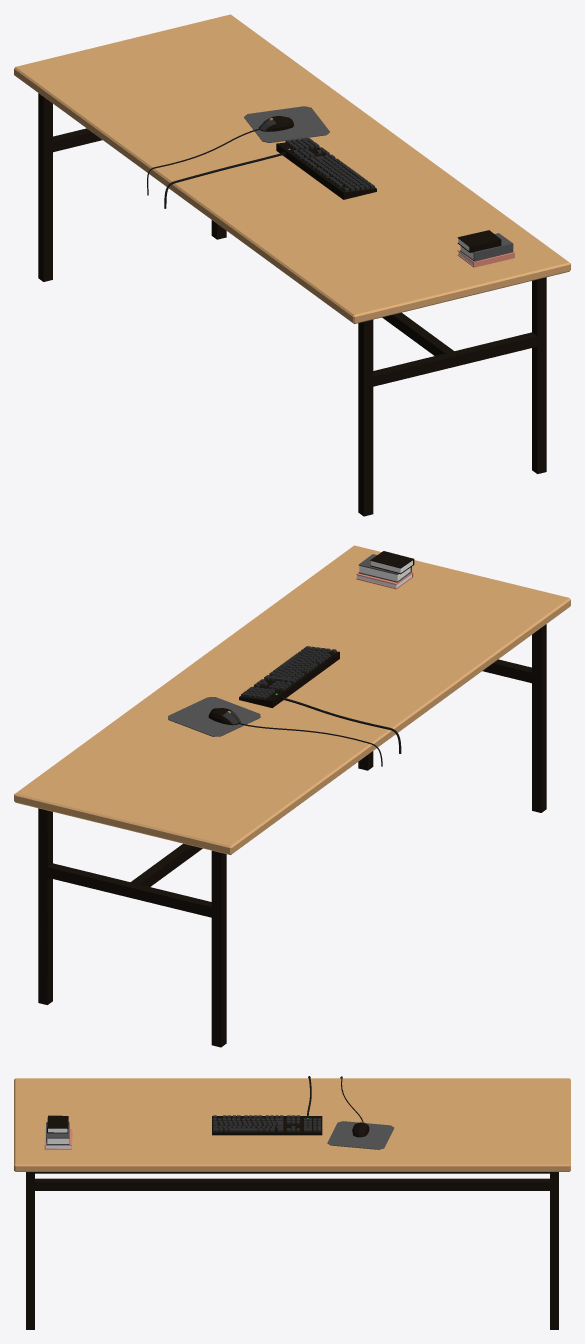
Rendered from desk.gltf.
3 renders of one model, top to bottom at view 1: azimuth 30°, elevation 25°; view 2: azimuth 150°, elevation 25°; view 3: azimuth 270°, elevation 25°, orthographic. The views are drawn at different scales.
Parts seen in each view (by area): view 1: Desk, PC_Keyboard, Mousepad, Books; view 2: Desk, PC_Keyboard, Mousepad, Books; view 3: Desk, PC_Keyboard, Mousepad, Books.
Part boxes in pixels (x1,y1,x2,y2): Desk: (14, 14, 570, 516); PC_Keyboard: (276, 138, 376, 199); Mousepad: (244, 106, 329, 142); Books: (457, 230, 514, 267); Desk: (14, 545, 570, 1047); PC_Keyboard: (239, 646, 339, 707); Mousepad: (168, 697, 260, 736); Books: (356, 551, 414, 589); Desk: (14, 1078, 570, 1329); PC_Keyboard: (212, 1115, 322, 1135); Mousepad: (327, 1121, 394, 1149); Books: (44, 1115, 72, 1149).
Bounding box in the file's own units: 21.87 × 21.22 × 56.7.
Materials: 7 (5 with a texture image).
